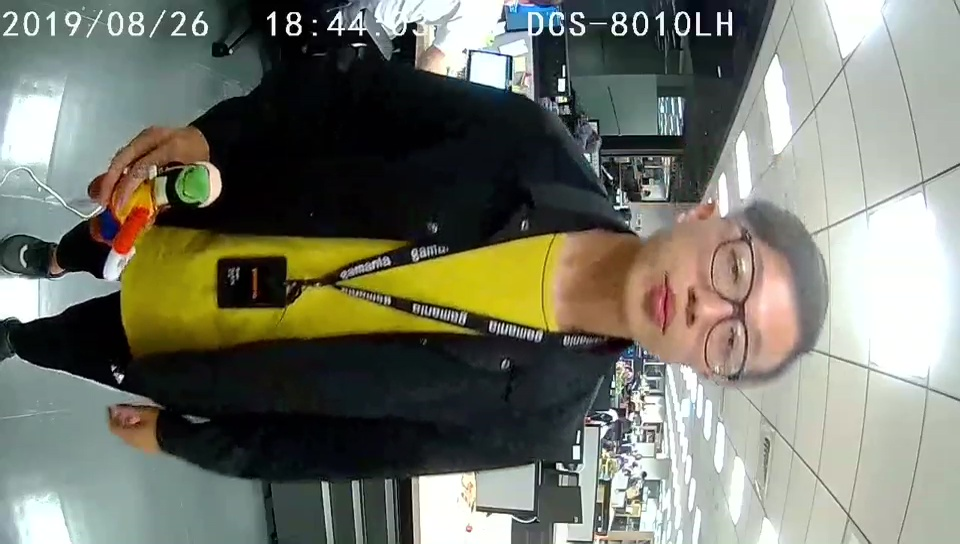goofy: (89, 161, 222, 278)
